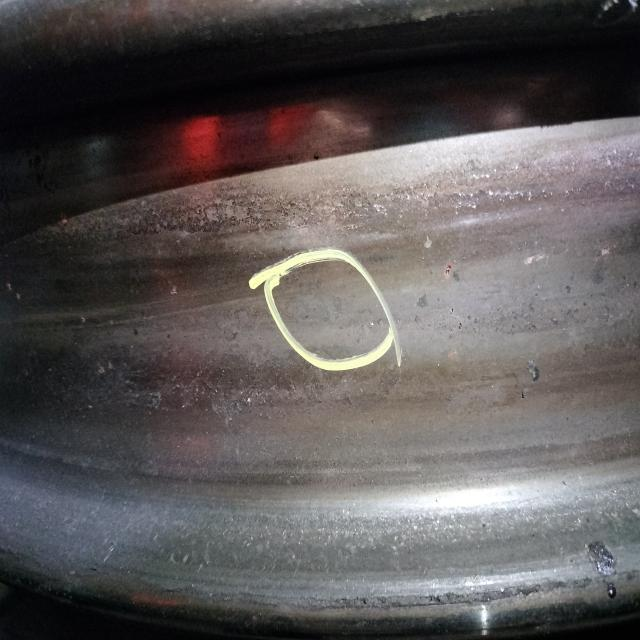Contact_Fatigue_Cracks: (263, 171, 567, 226)
flat: (284, 285, 373, 340)
